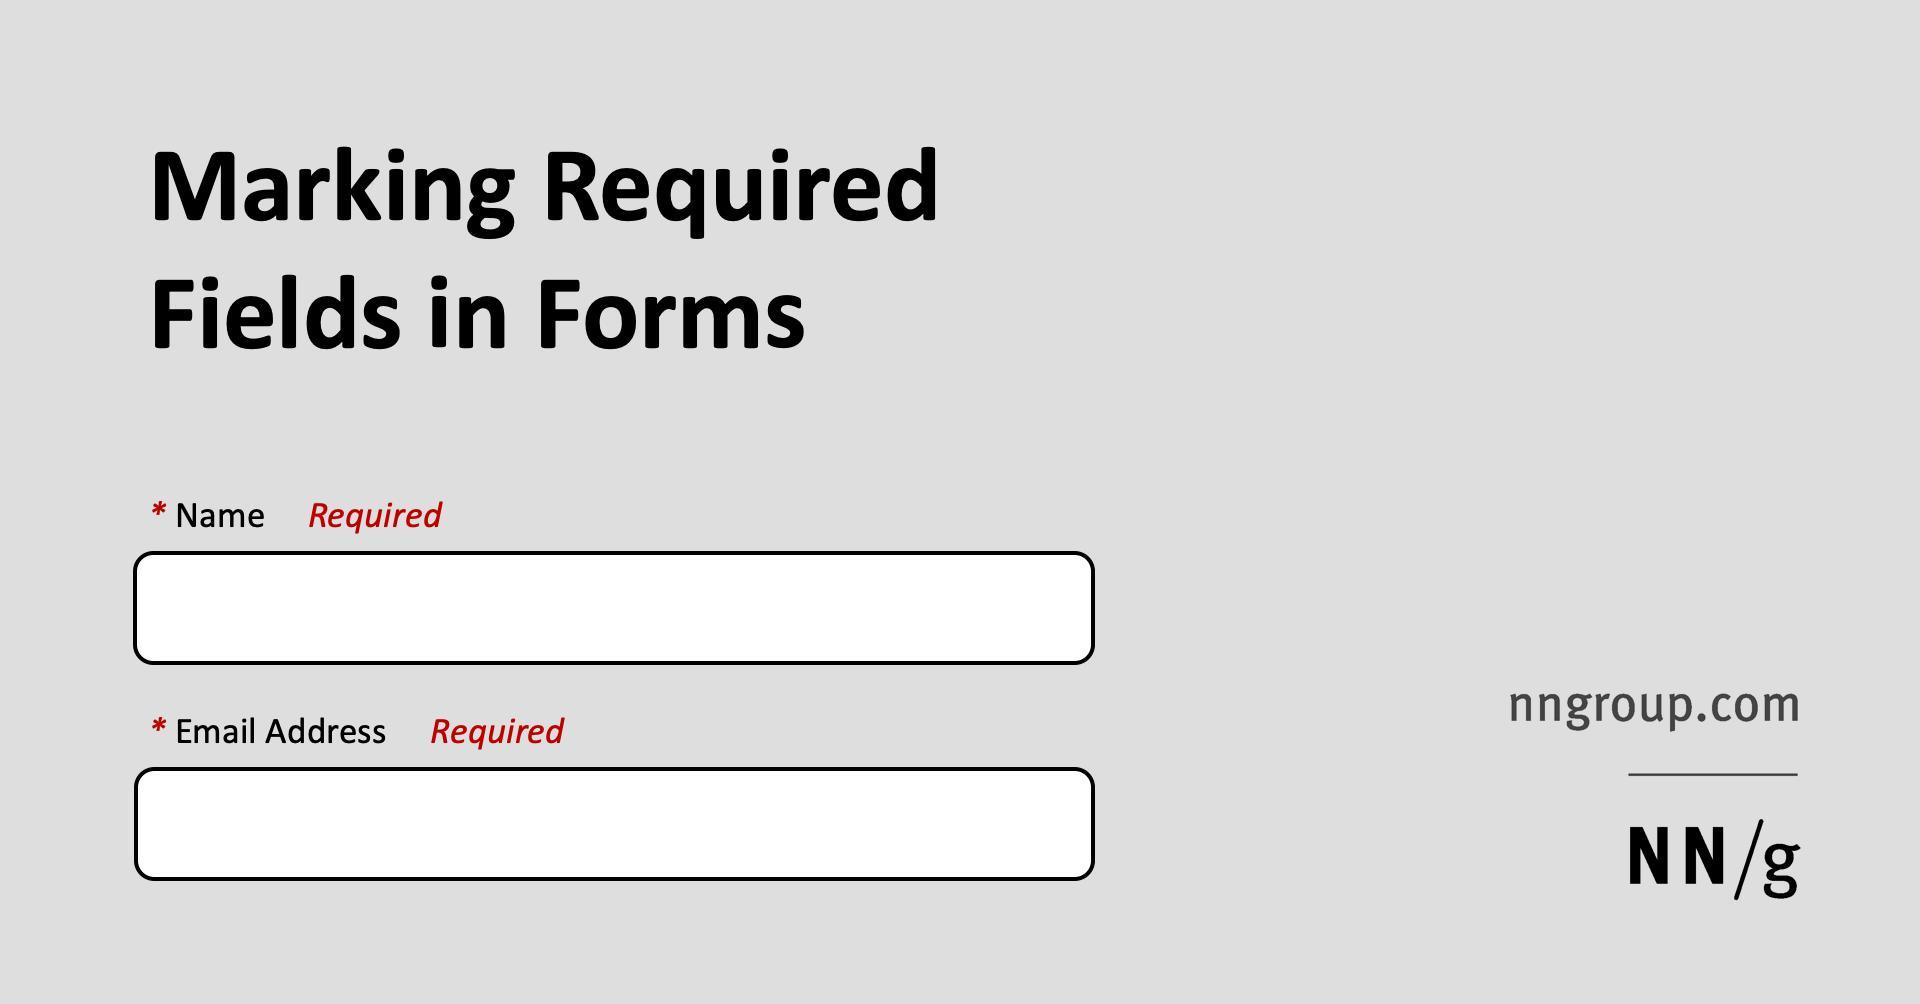input: (135, 552, 1098, 668), (135, 770, 1098, 882)
label: (131, 137, 996, 392), (152, 702, 394, 751), (151, 495, 272, 538)
